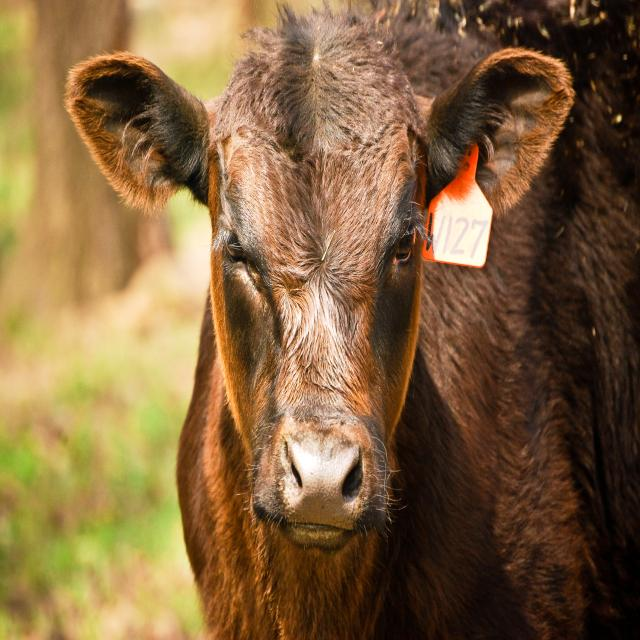cow: (66, 0, 640, 637)
